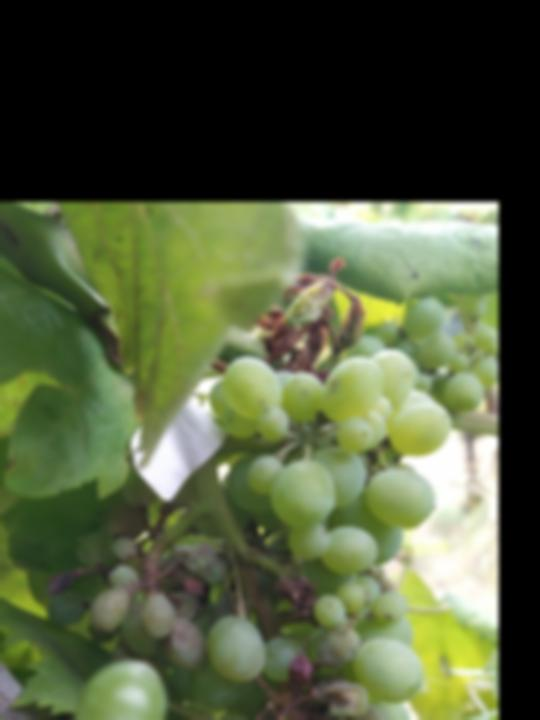grape: (85, 344, 482, 720)
